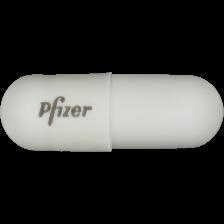43353-414: (0, 0, 224, 224)
